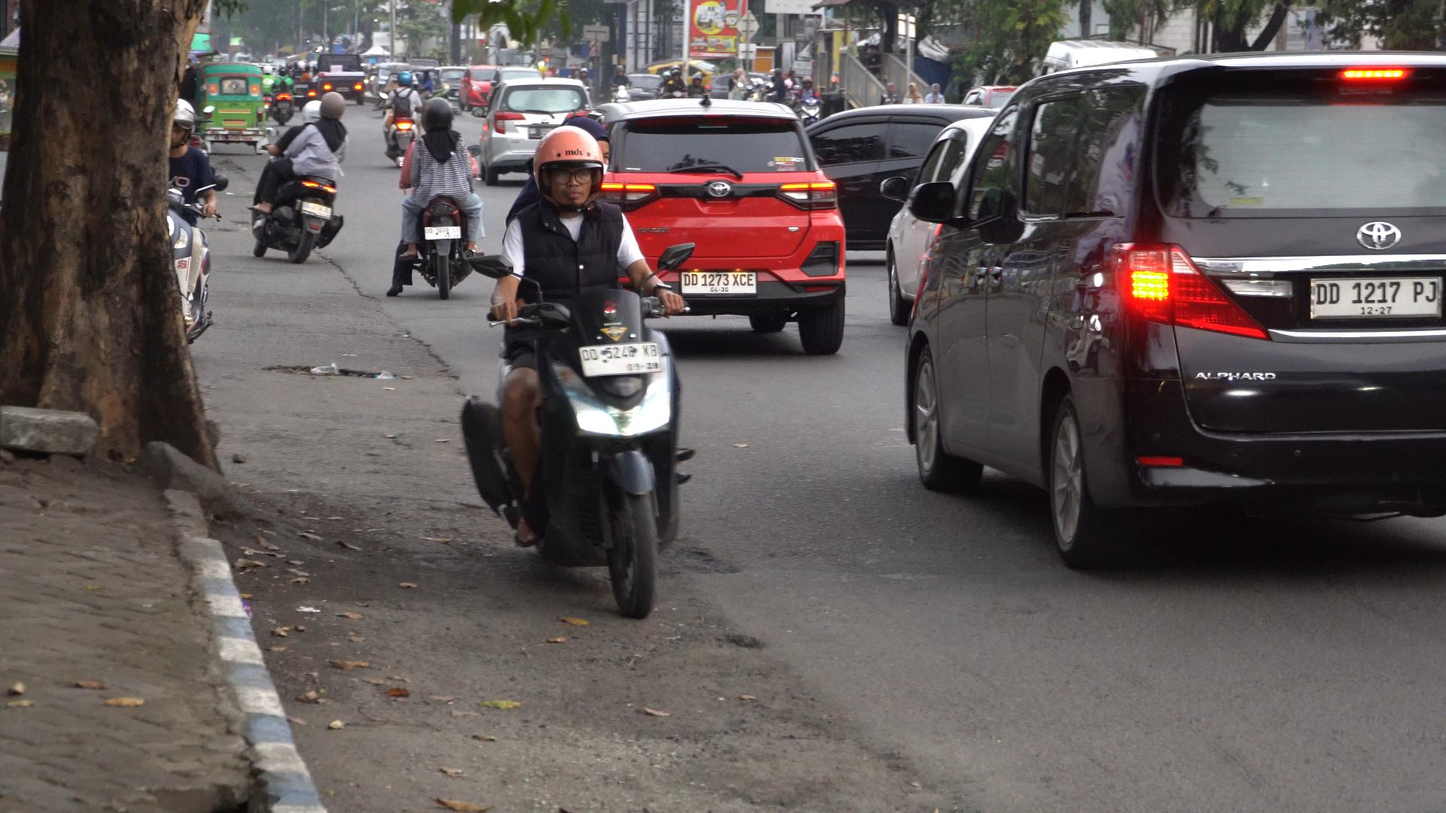number-plate: (575, 339, 664, 378)
